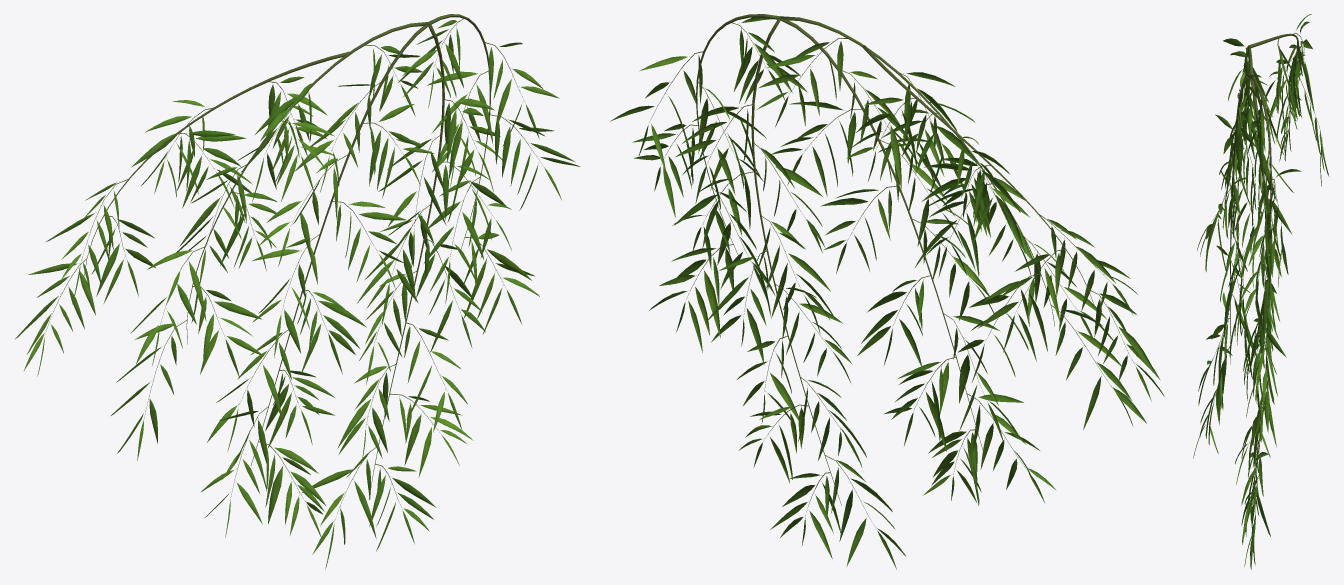
File: porch-bamboo.glb
3 renders of one model, left to right at view 1: azimuth 30°, elevation 25°; view 2: azimuth 150°, elevation 25°; view 3: azimuth 270°, elevation 25°, orthographic. The views are drawn at different scales.
Parts seen in each view (by area): view 1: Leaves, Branches; view 2: Leaves, Branches; view 3: Leaves, Branches.
Boxes of the visible parts, x1=… form: Leaves: x1=15, y1=20, x2=580, y2=569; Branches: x1=46, y1=14, x2=543, y2=519; Leaves: x1=610, y1=17, x2=1164, y2=569; Branches: x1=649, y1=14, x2=1134, y2=529; Leaves: x1=1193, y1=14, x2=1329, y2=569; Branches: x1=1210, y1=33, x2=1322, y2=520.
Size of the model in its own units: 4.41 by 4.07 by 0.9918.
2 materials, 2 textured.
